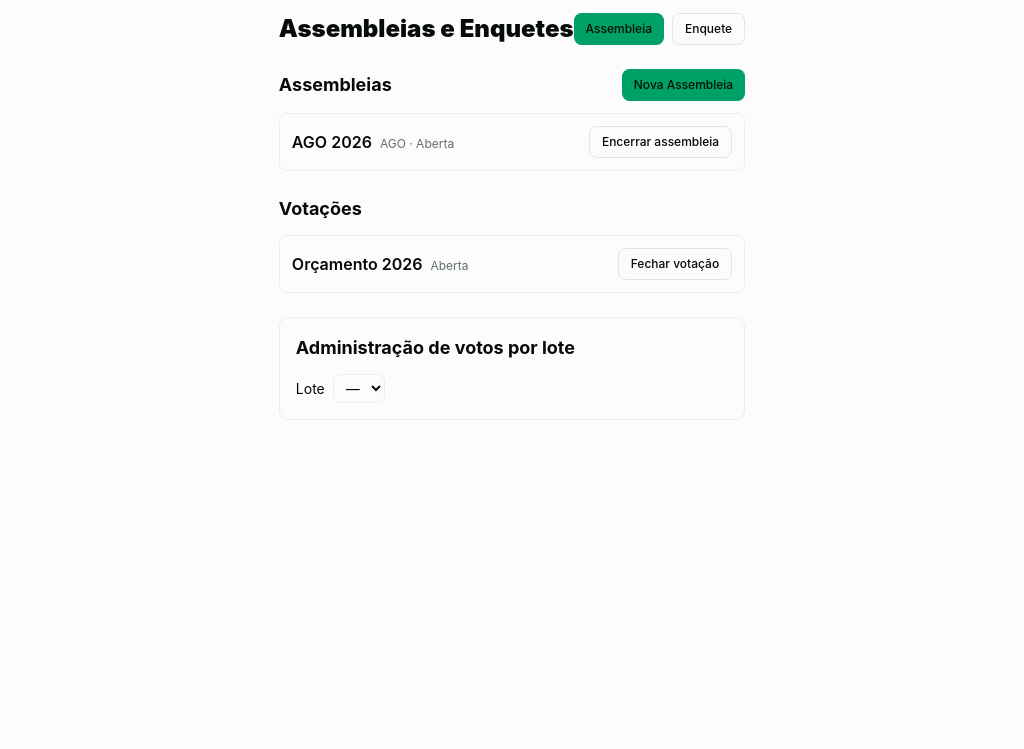
Test: AssemblyVotingPage › surfaces creation errors from both forms
Step 1. Click the button "Nova Assembleia" → (684, 85), box left=622, top=69, right=745, bottom=101
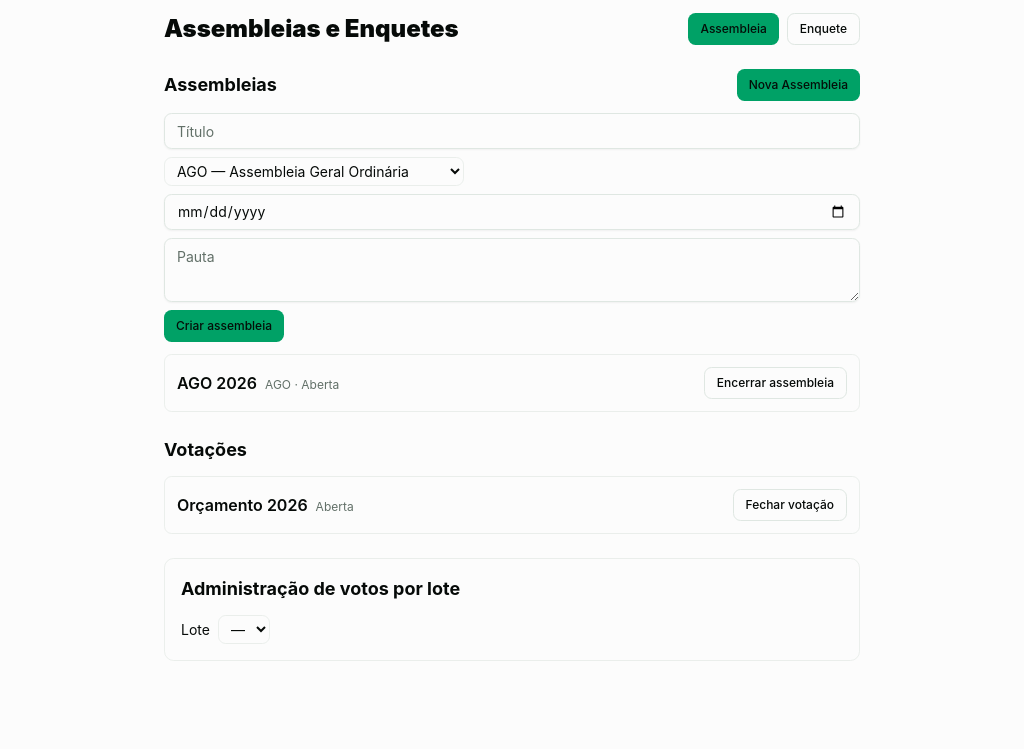
Step 2. Click the button "Criar assembleia" → (224, 326), box left=164, top=310, right=284, bottom=342
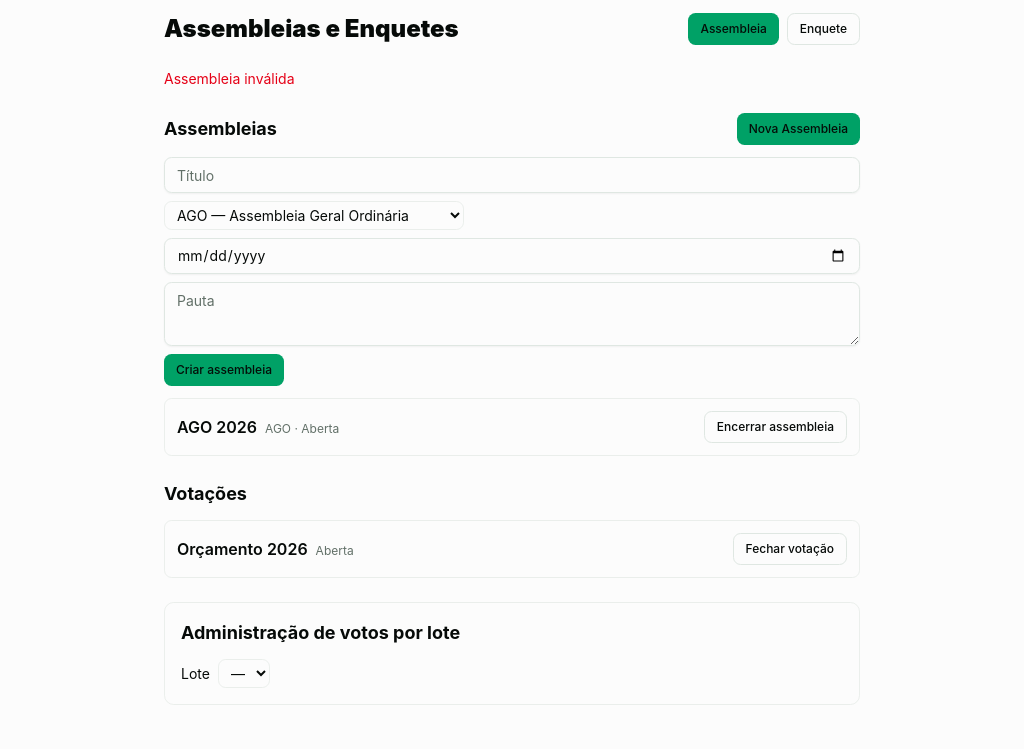
Result: the text "Assembleia inválida" is shown at left=164, top=70, right=294, bottom=87
Step 3. Click the button "AGO 2026AGO · Aberta" → (258, 427), box left=177, top=415, right=339, bottom=439
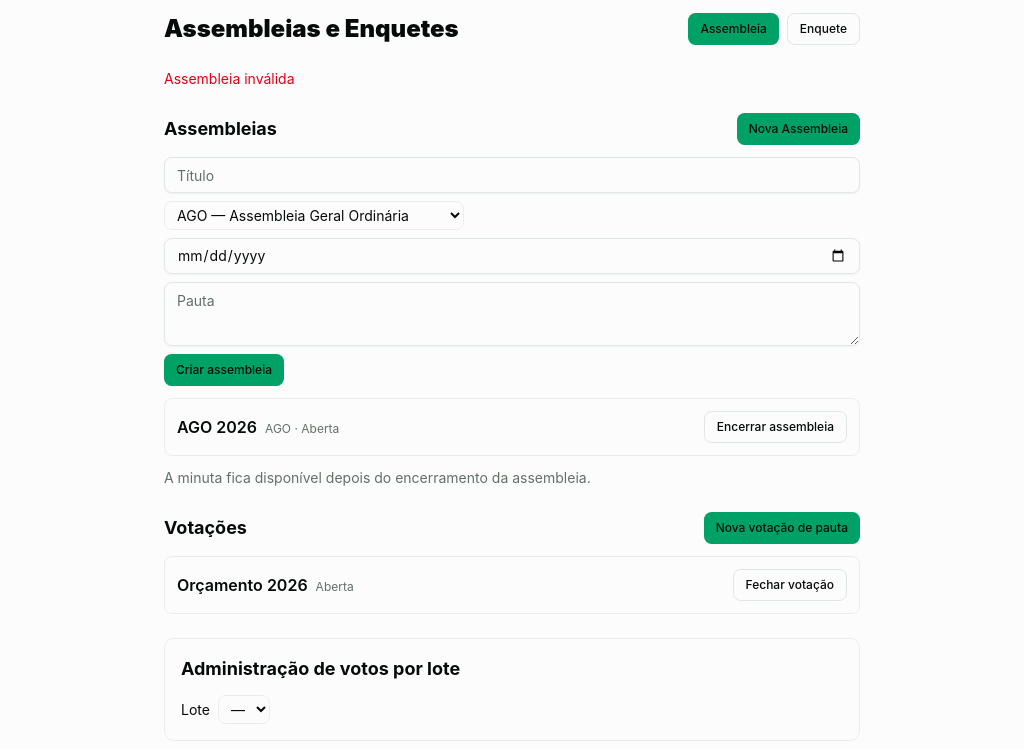
Step 4. Click the button "Nova votação de pauta" → (782, 528), box left=704, top=512, right=860, bottom=544
(page scrolled)
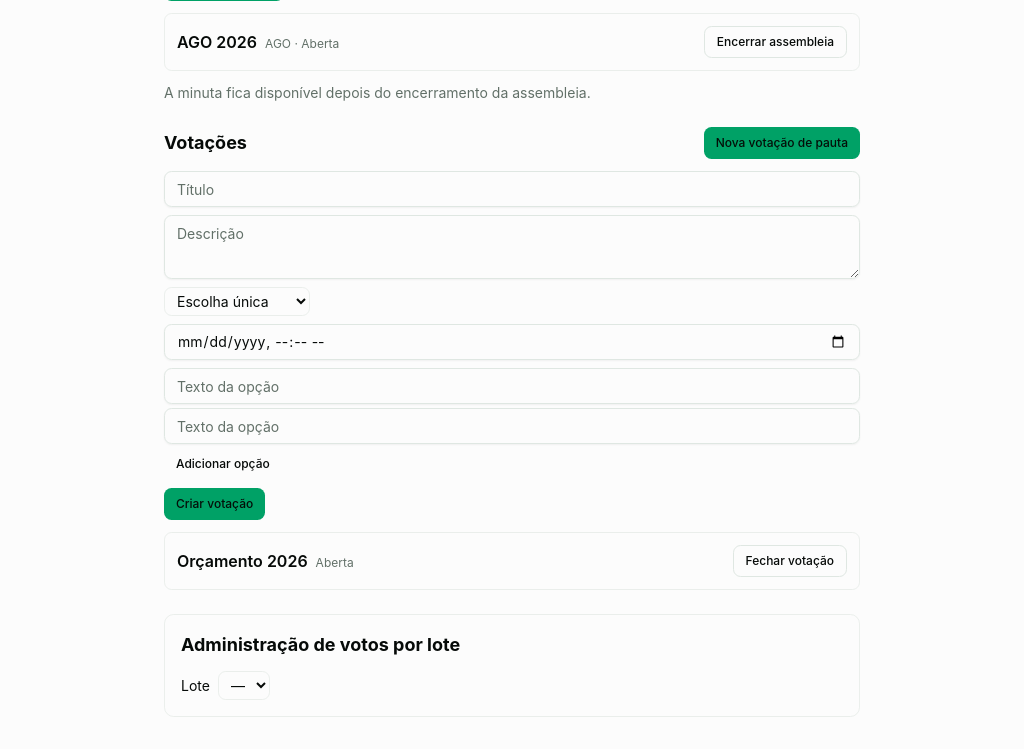
Step 5. Click the button "Criar votação" → (215, 504), box left=164, top=488, right=265, bottom=520
(page scrolled)
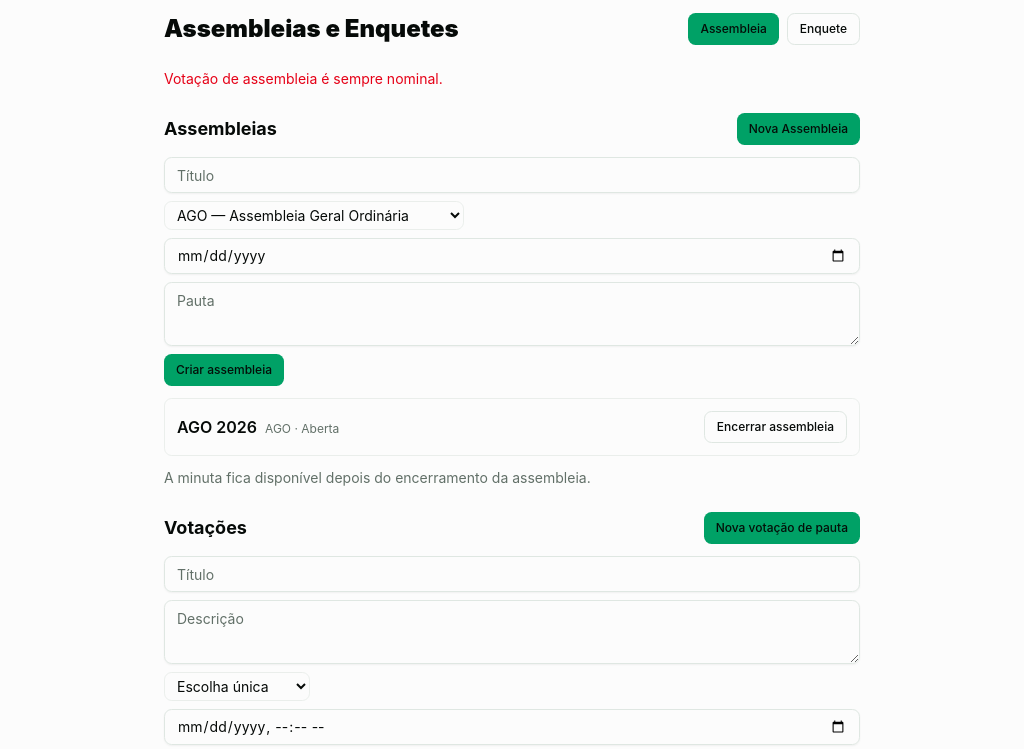
Result: the text "Votação de assembleia é sempre nominal." is shown at left=164, top=70, right=443, bottom=87
